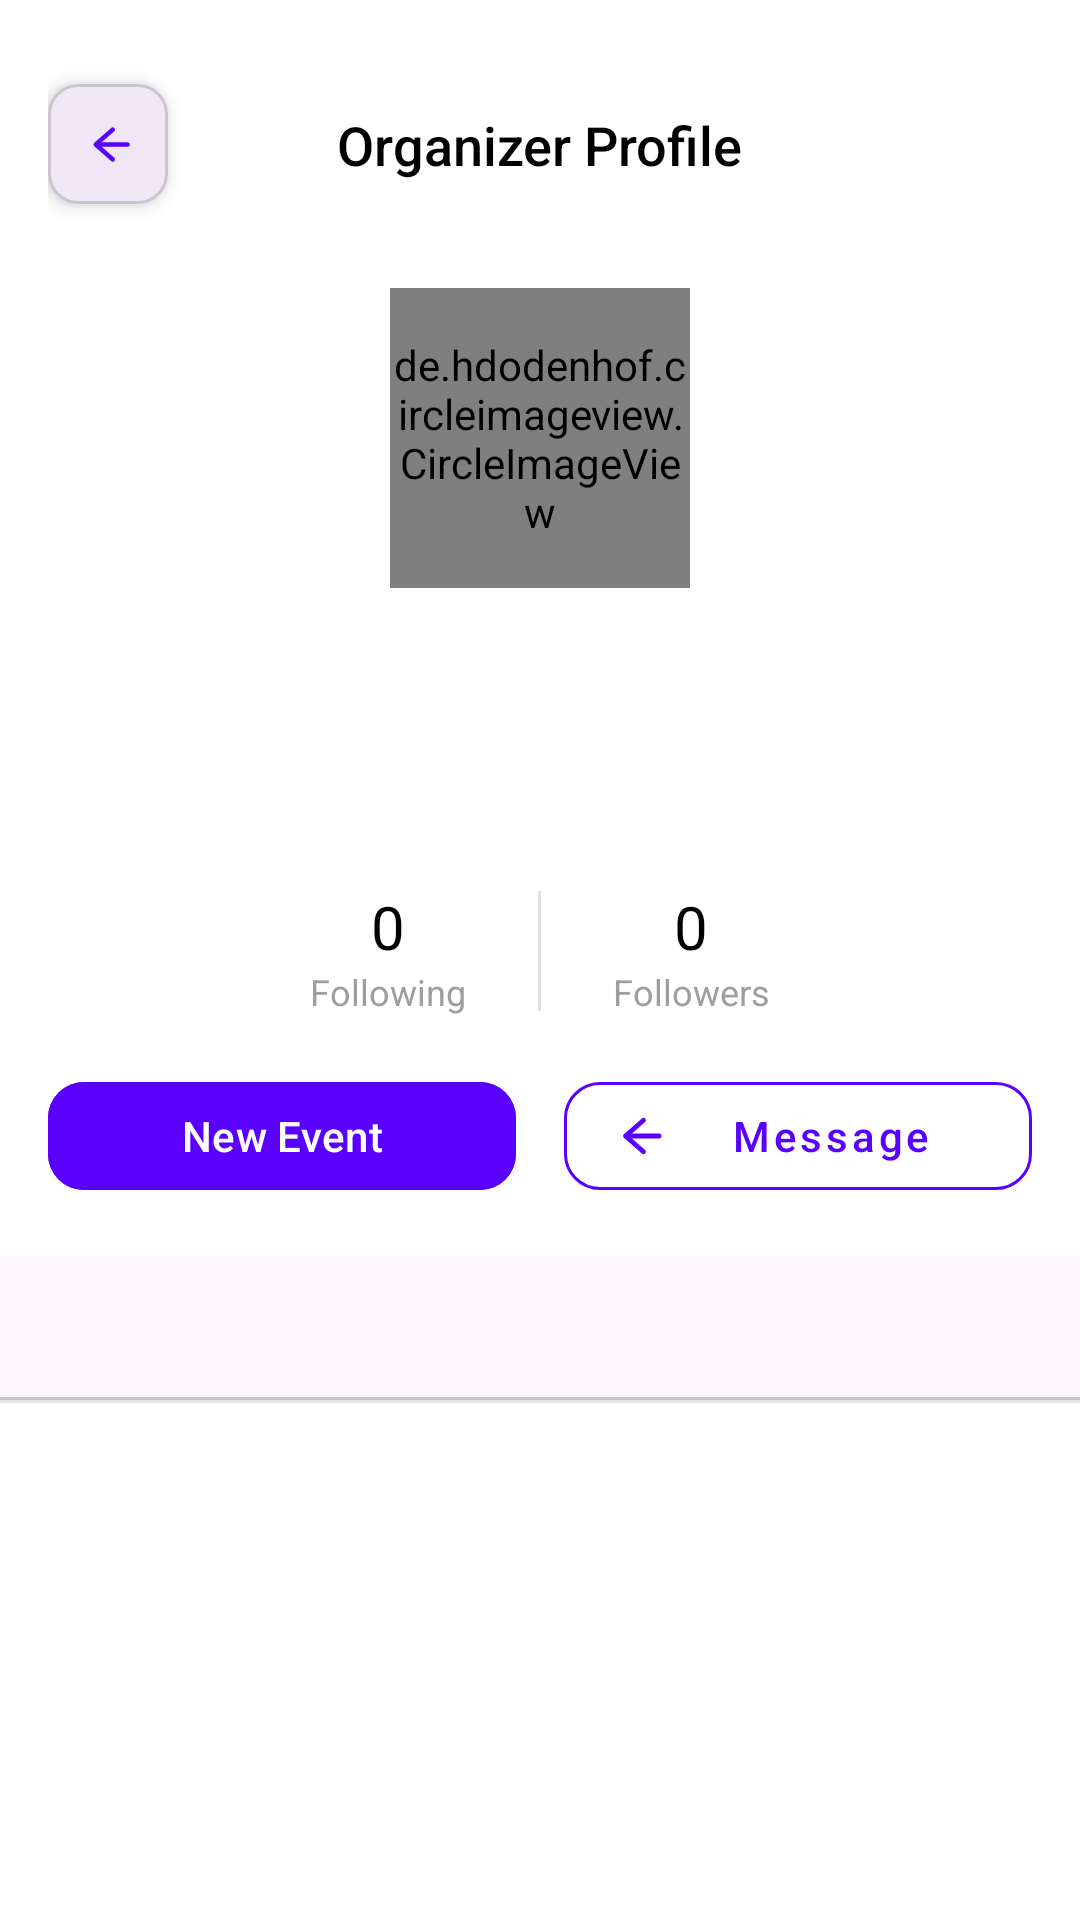

Named icons in this screenshot (1080px×1920px) and their bounding boxes, bbox=[x1, y1, x2, y2]:
Back: bbox=[48, 84, 168, 204]
